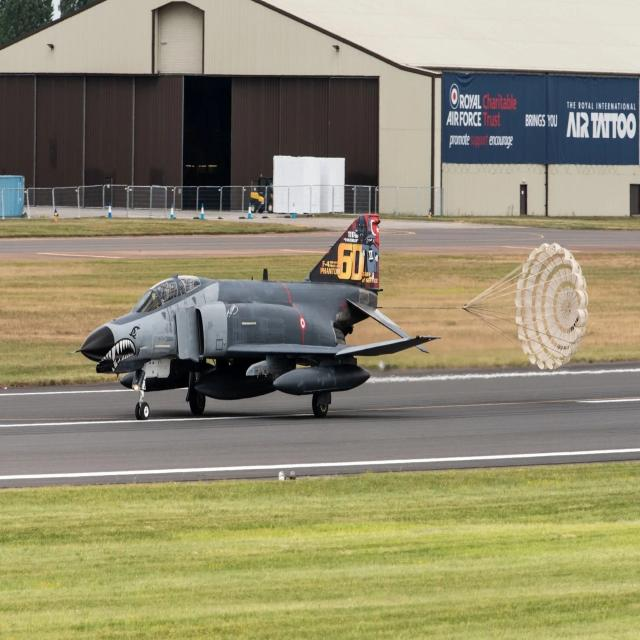MIL_Plane: (69, 213, 441, 421)
